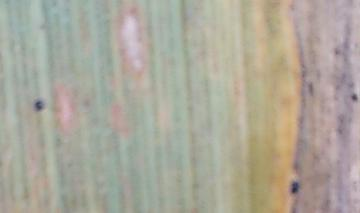tarspot: (32, 98, 45, 112), (289, 180, 298, 194), (290, 199, 299, 213), (306, 81, 314, 96), (336, 125, 344, 135), (39, 22, 49, 30), (333, 46, 340, 57), (292, 160, 299, 171), (350, 93, 358, 102), (346, 80, 355, 88), (298, 114, 304, 125), (340, 71, 346, 82), (55, 136, 63, 144), (324, 198, 331, 207), (324, 172, 331, 181), (351, 179, 358, 188), (333, 83, 341, 90), (324, 136, 331, 144), (301, 70, 306, 80), (338, 115, 344, 122), (300, 61, 305, 69)
